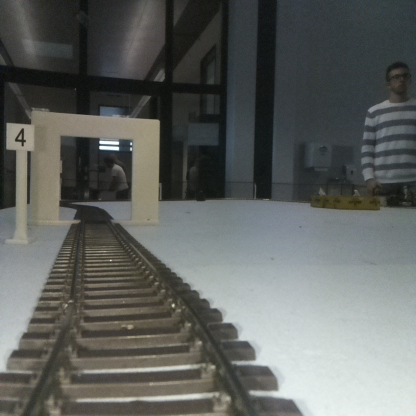white-info-4: (6, 124, 35, 244)
